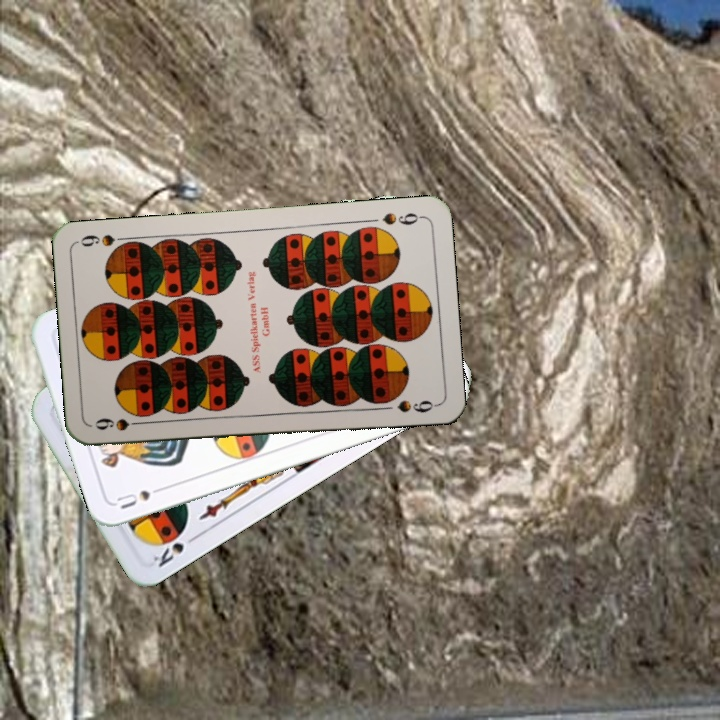S9: (91, 414, 150, 434), (378, 208, 425, 228)
SK: (149, 530, 202, 570)
SU: (112, 481, 170, 512)
